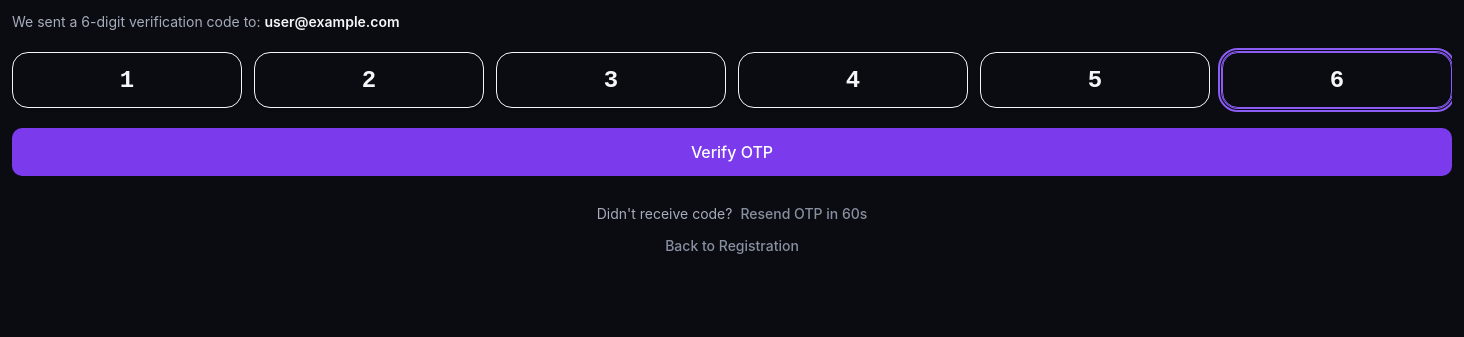
Test case: keeps the user on the OTP step when the code expires
The image size is (1464, 337).
Step 1. Click the button "Verify OTP" → [732, 152], box [12,128,1452,176]
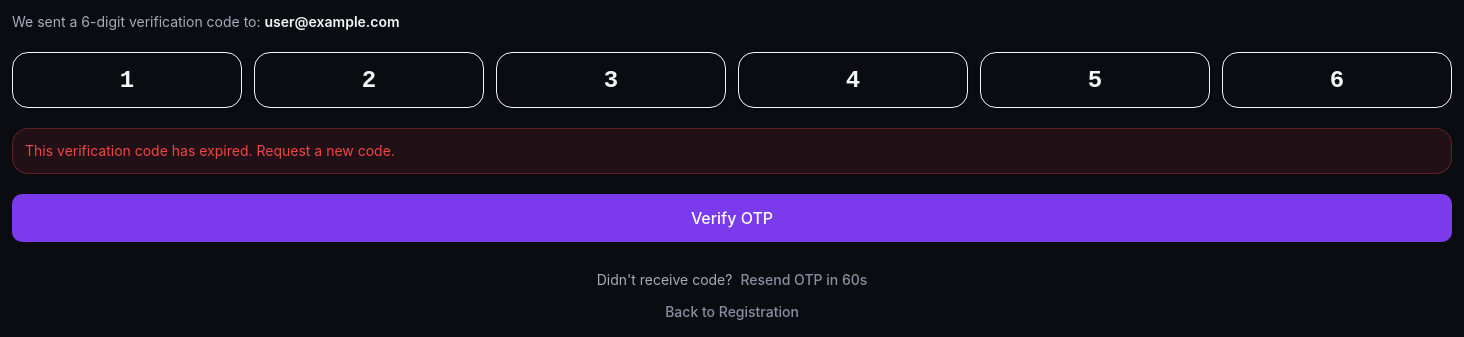
Result: the message shows "expired" at [25,142,395,159]
